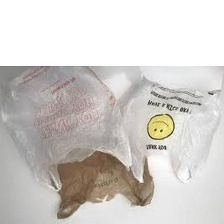plastic_bag: (0, 63, 133, 193), (108, 69, 224, 187), (50, 143, 157, 220)
